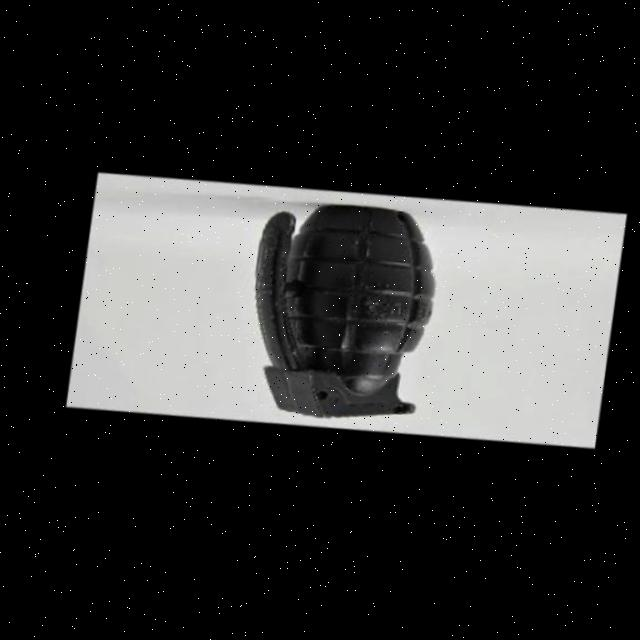grenade: (229, 182, 472, 449)
